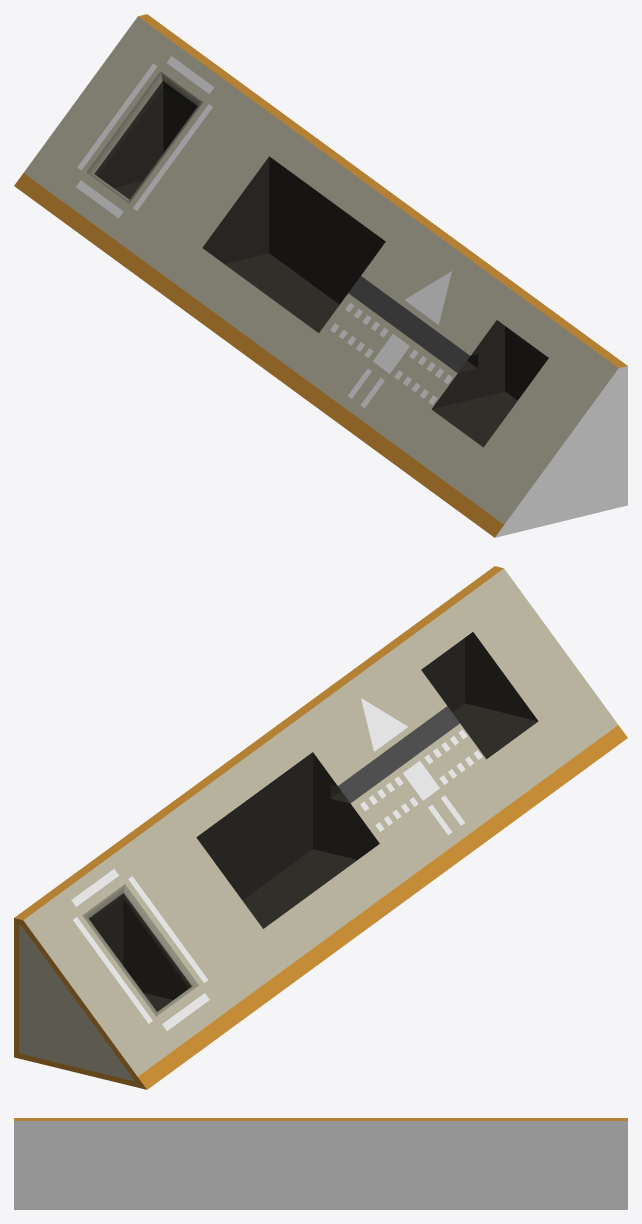
Rendered from Lifesupportunit.glb.
3 views of the same model, one above another, from view 1: azimuth 30°, elevation 25°; view 2: azimuth 150°, elevation 25°; view 3: azimuth 270°, elevation 25° (orthographic). The views are drawn at different scales.
Parts seen in each view (by area): view 1: Unit-col, Light24, Light11, LightCom-3, LightCom-1; view 2: Unit-col, Light24, Light11, LightCom-1, LightCom-3; view 3: Unit-col.
Part boxes in pixels (bbox=[...]): Unit-col: bbox=[14, 14, 627, 537]; Light24: bbox=[405, 271, 451, 324]; Light11: bbox=[373, 334, 409, 373]; LightCom-3: bbox=[77, 63, 157, 170]; LightCom-1: bbox=[133, 104, 212, 210]; Unit-col: bbox=[14, 566, 627, 1089]; Light24: bbox=[361, 698, 407, 751]; Light11: bbox=[403, 761, 439, 800]; LightCom-1: bbox=[128, 876, 208, 982]; LightCom-3: bbox=[73, 917, 152, 1023]; Unit-col: bbox=[14, 1118, 627, 1209].
Size of the model in its own units: 2 by 2 by 12.5.
